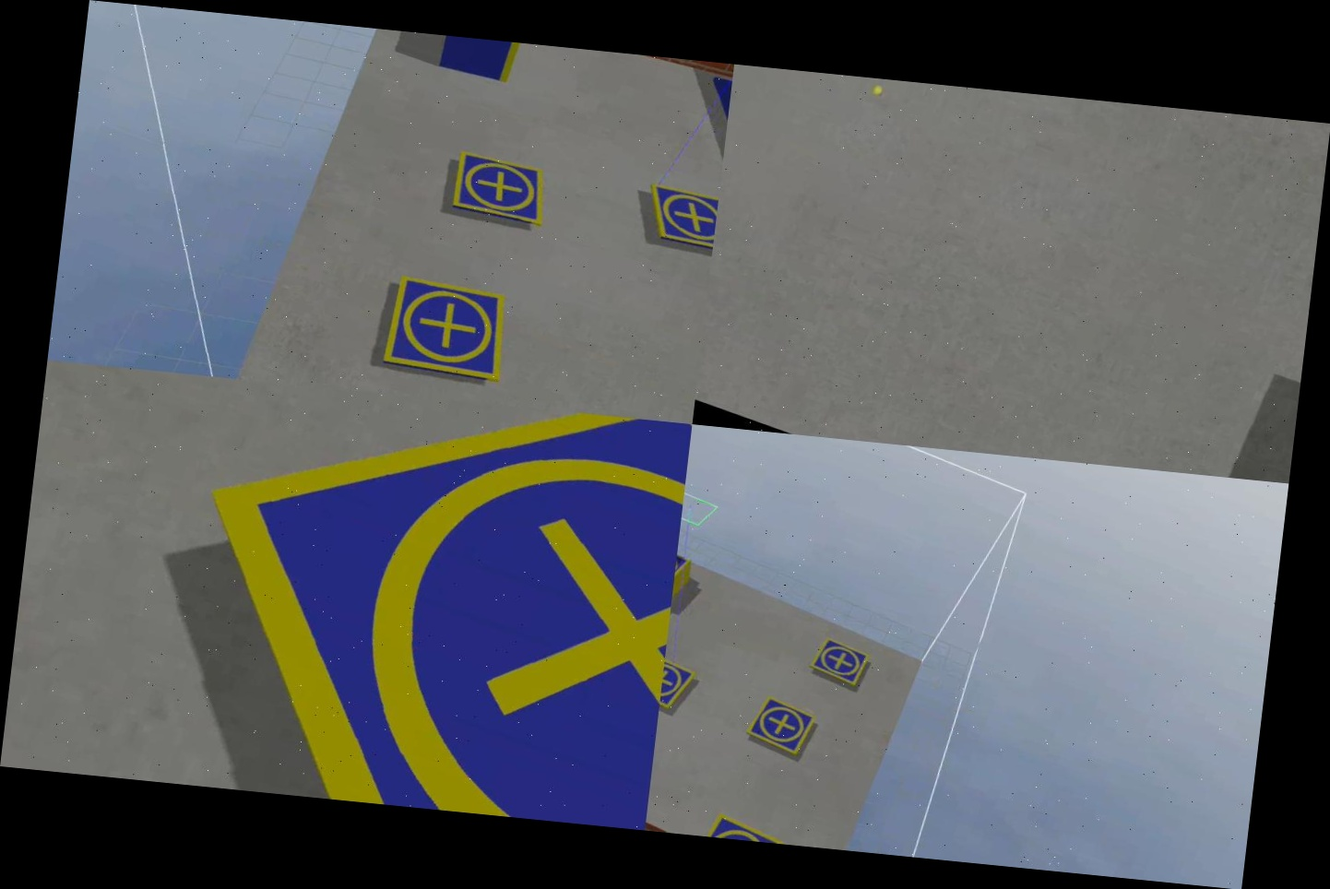large_base: (665, 64, 733, 225)
small_base: (77, 368, 692, 830), (362, 260, 529, 407), (432, 141, 563, 243), (629, 176, 720, 267), (741, 691, 822, 762), (806, 634, 875, 691), (698, 810, 790, 844), (659, 651, 698, 715), (672, 542, 694, 594)
